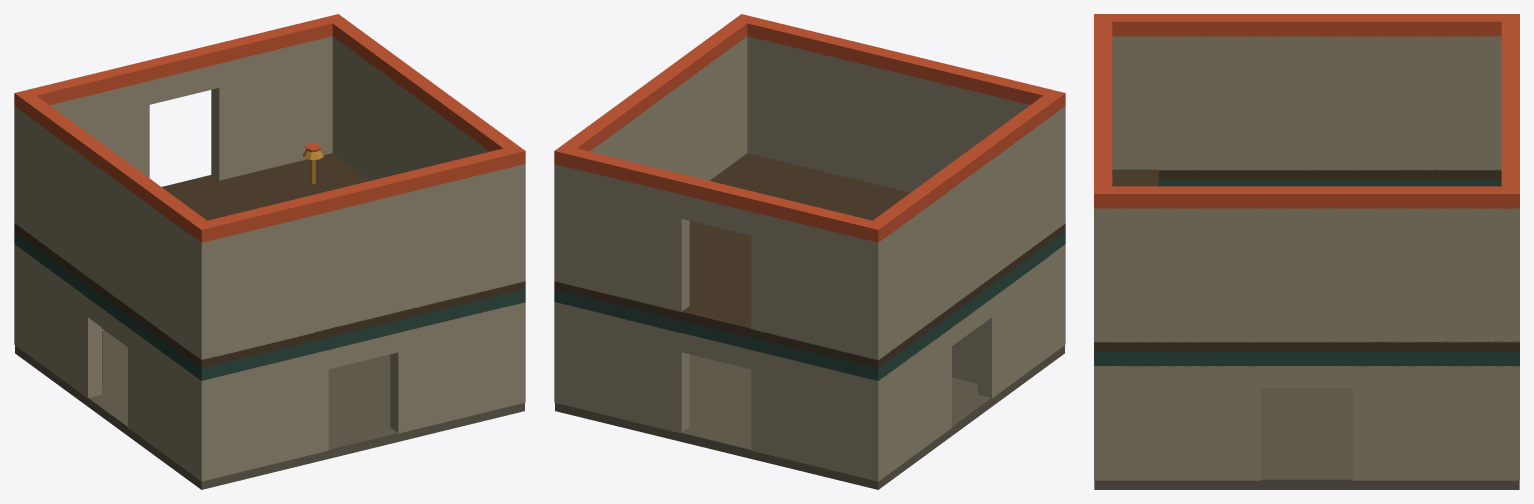
The model's file is LateStairUp.fbx.
3 views of the same model, side by side, from view 1: azimuth 30°, elevation 25°; view 2: azimuth 150°, elevation 25°; view 3: azimuth 270°, elevation 25° (orthographic). The views are drawn at different scales.
Visible parts, largest first — view 1: LateStairUp; view 2: LateStairUp; view 3: LateStairUp.
Boxes of the visible parts, x1,y1,x2,y2 form: LateStairUp: (14, 14, 525, 489); LateStairUp: (554, 14, 1065, 489); LateStairUp: (1094, 14, 1519, 489).
Size of the model in its own units: 1202 by 922 by 1202.
6 materials, 6 textured.
